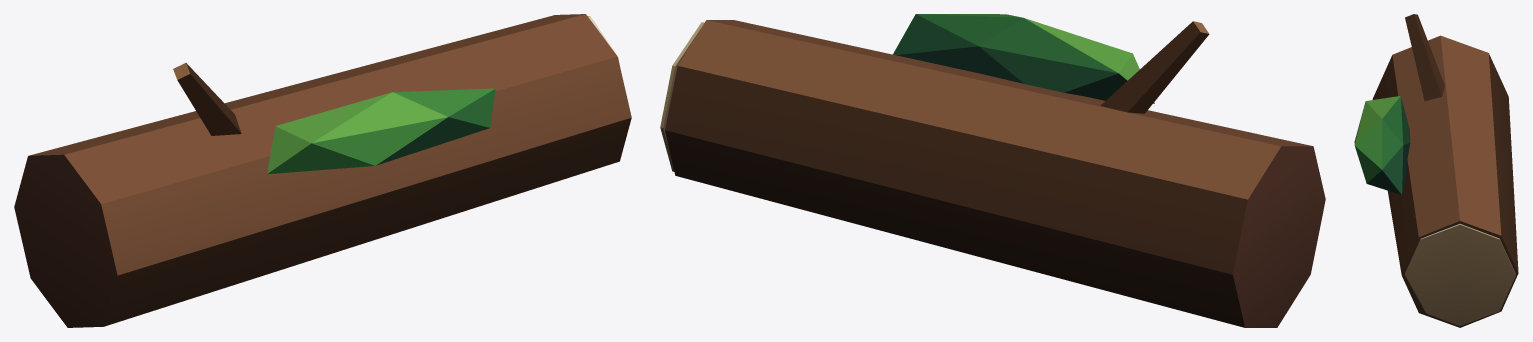
File: log_fallen.glb
3 views of the same model, side by side, from view 1: azimuth 30°, elevation 25°; view 2: azimuth 150°, elevation 25°; view 3: azimuth 270°, elevation 25° (orthographic). The views are drawn at different scales.
Visible parts, largest first — view 1: log_fallen; view 2: log_fallen; view 3: log_fallen.
Part boxes in pixels (x1=…): log_fallen: x1=14, y1=14, x2=631, y2=327; log_fallen: x1=660, y1=14, x2=1325, y2=327; log_fallen: x1=1354, y1=14, x2=1518, y2=327.
Size of the model in its own units: 0.9122 by 0.4096 by 0.3368.
